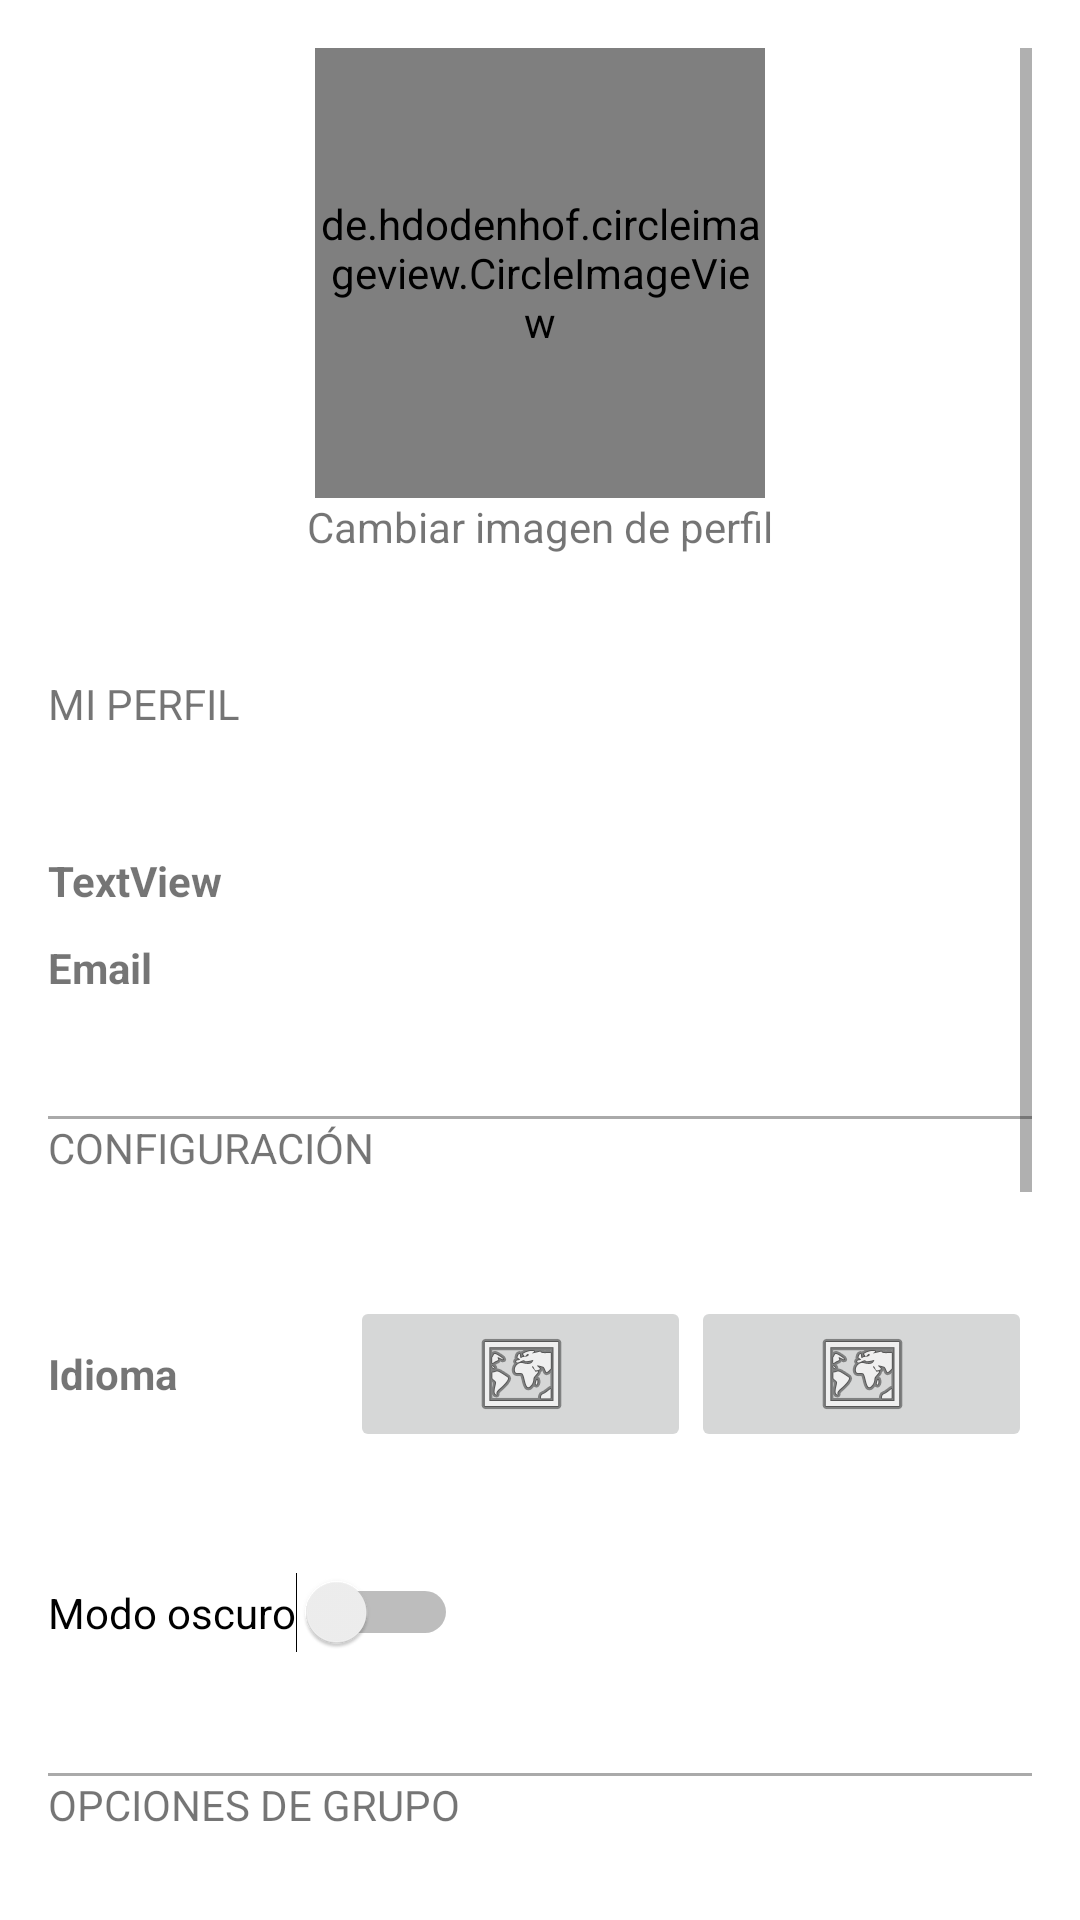

Icon click points for this 1080px×1920px phone screenshot, format (x,y):
mapmode: (520,1374), (861,1374)
